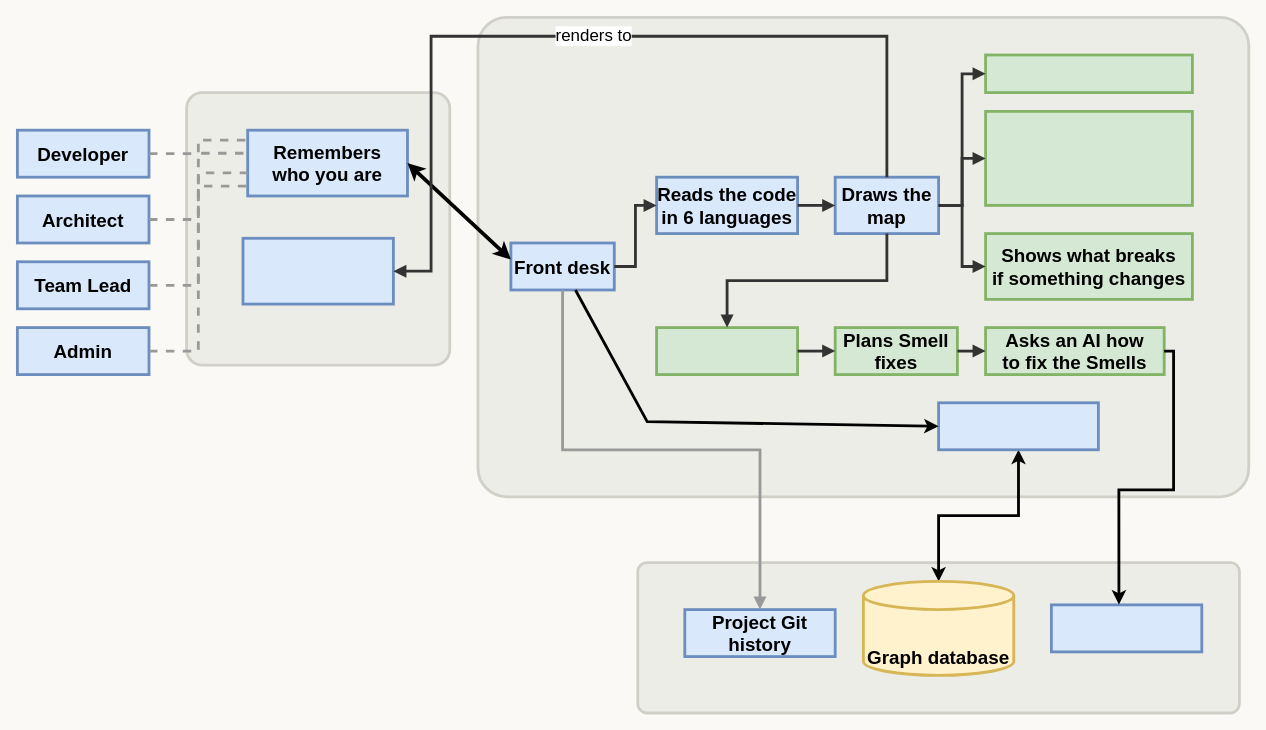
The diagram is 1266 pixels wide and 730 high, and some of its shapes have lost their labels. The shapes that lost their labels are listed below. From the top down, each one's centre as x and y in pixels, then its label:
At point 1088,73: "Checks code health".
At point 1088,158: "Detects architecture and layering mistakes".
At point 317,270: "Interactive map of the code".
At point 727,351: "Finds Code Smells".
At point 1018,426: "Saves and retrieves the map".
At point 1126,628: "AI assistant".
